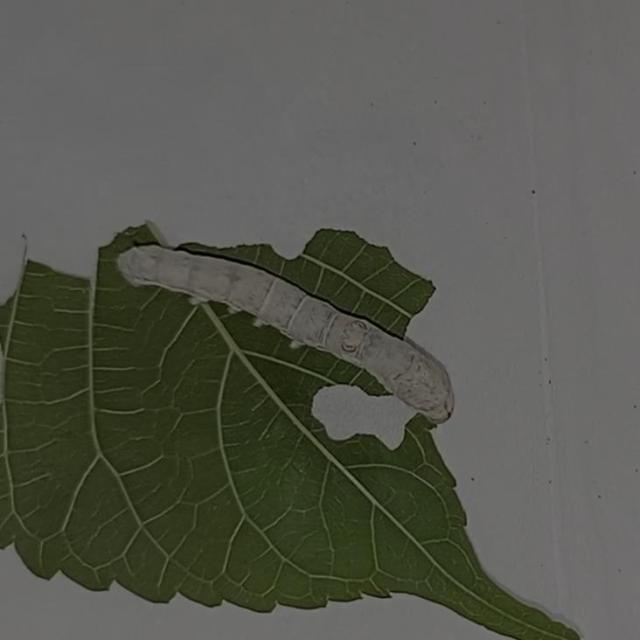Healthy: (114, 231, 466, 433)
